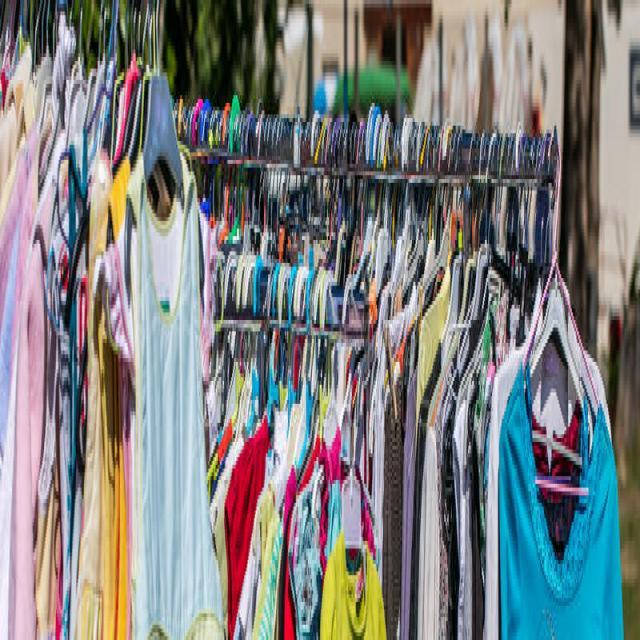clothes: (2, 46, 238, 628)
